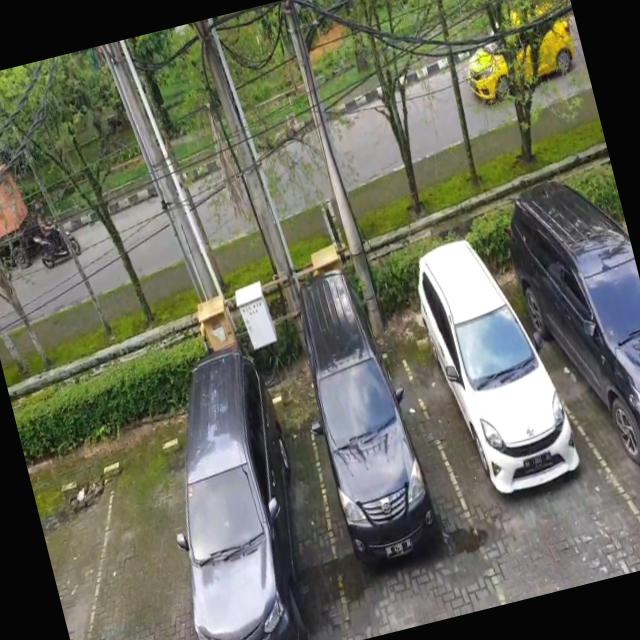car: (406, 270, 602, 565), (286, 334, 478, 627), (145, 399, 363, 640), (523, 205, 640, 538)
free: (51, 451, 206, 640)
